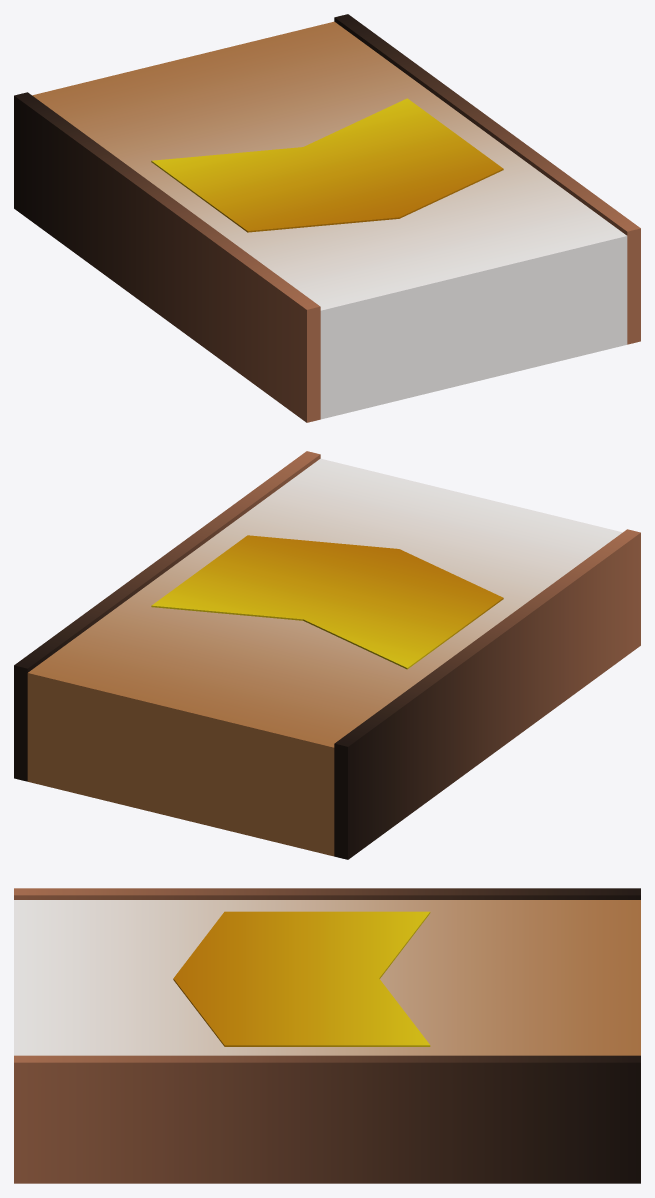
The model's file is speedboost.fbx.
3 views of the same model, one above another, from view 1: azimuth 30°, elevation 25°; view 2: azimuth 150°, elevation 25°; view 3: azimuth 270°, elevation 25° (orthographic). The views are drawn at different scales.
Parts seen in each view (by area): view 1: thinboostboard, thickreplacement, booster; view 2: thickreplacement, thinboostboard, booster; view 3: thickreplacement, thinboostboard, booster.
Boxes of the visible parts, bbox=[...] form: thinboostboard: bbox=[15, 14, 640, 336]; thickreplacement: bbox=[14, 17, 640, 422]; booster: bbox=[151, 98, 503, 232]; thickreplacement: bbox=[14, 451, 640, 859]; thinboostboard: bbox=[14, 451, 639, 773]; booster: bbox=[151, 535, 503, 669]; thickreplacement: bbox=[14, 888, 640, 1183]; thinboostboard: bbox=[14, 888, 640, 1091]; booster: bbox=[173, 911, 430, 1046].
Bounding box in the file's own units: 4.01 × 1.3 × 6.09.
